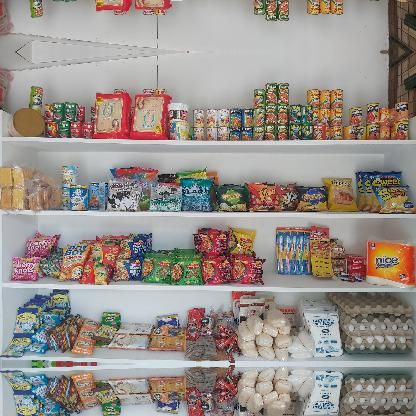Lady-s-Choice: (7, 108, 44, 136)
